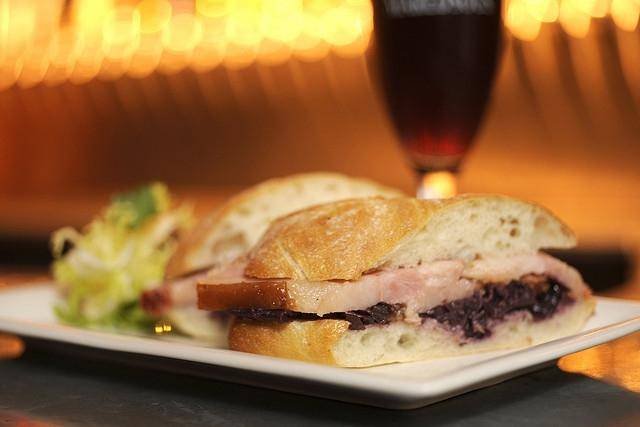lettuce: (84, 271, 138, 322), (70, 233, 137, 274)
